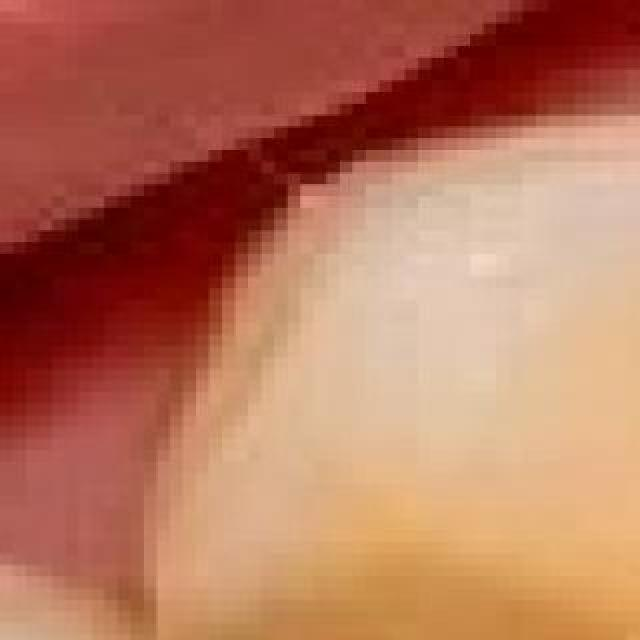cavities: (122, 560, 640, 640)
